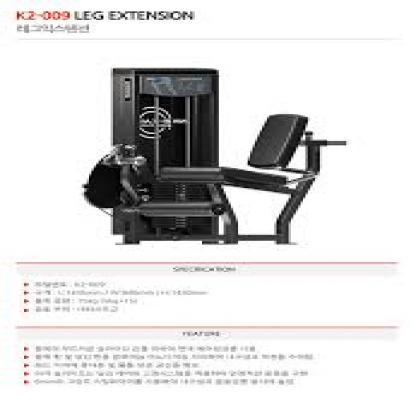leg extension: (68, 59, 367, 256)
